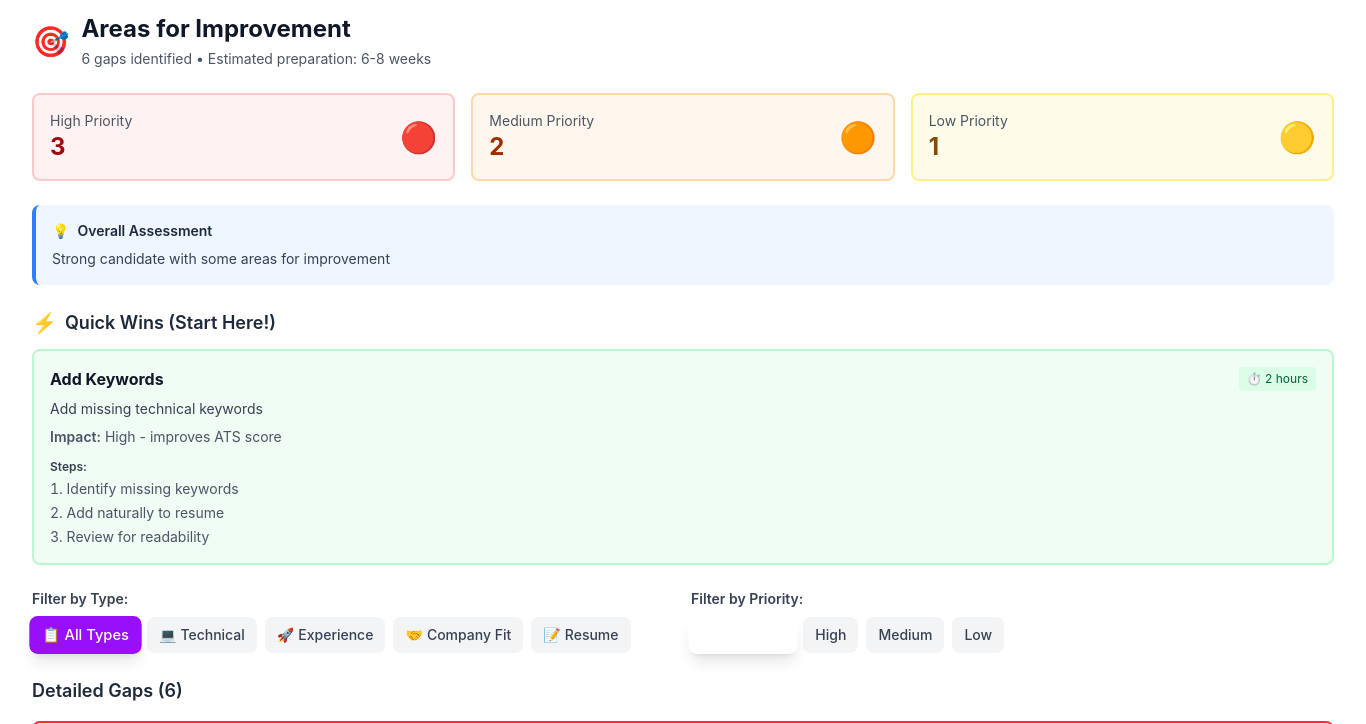
Test case: GapsSection › type filtering › filters to experience gaps only
What coordinates should you click on to do the following:
click the button named "🚀 Experience"
I would click on:
 (325, 635)
Its box is x1=265 y1=617 x2=385 y2=653.
(page scrolled)
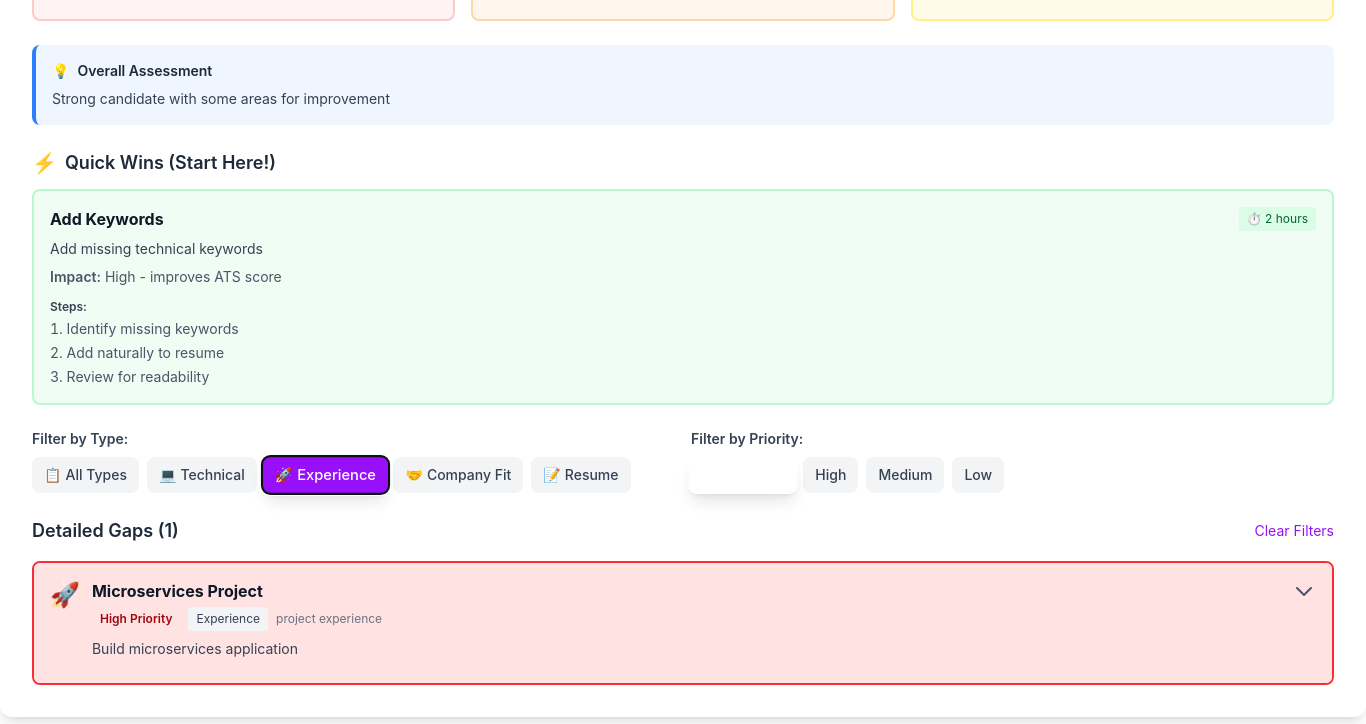
Expected: the heading "Microservices Project" is shown, x1=92 y1=581 x2=263 y2=601
Now the heading "Detailed Gaps (1)" is shown, box x1=32 y1=517 x2=179 y2=545
